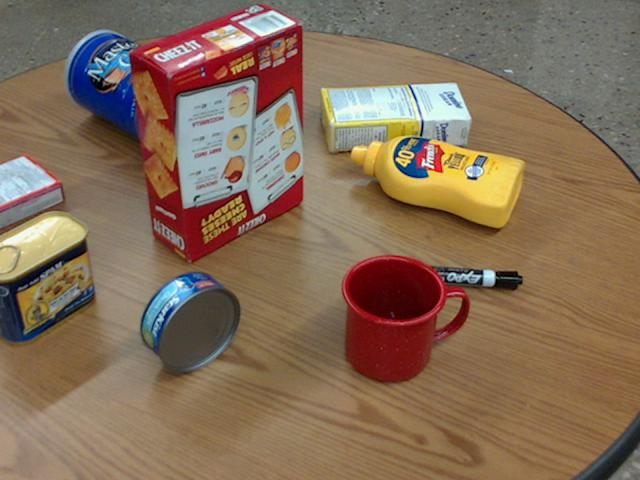cracker_box: (128, 7, 302, 262)
gelatin_box: (0, 155, 65, 229)
large_marker: (401, 263, 522, 289)
master_chef_can: (62, 31, 205, 151)
mug: (342, 253, 467, 382)
mustard_bottle: (349, 136, 523, 226)
potted_meat_can: (0, 211, 94, 346)
sugar_box: (319, 81, 472, 152)
tomato_soup_can: (231, 16, 285, 112)
tuna_fish_can: (140, 271, 240, 372)
